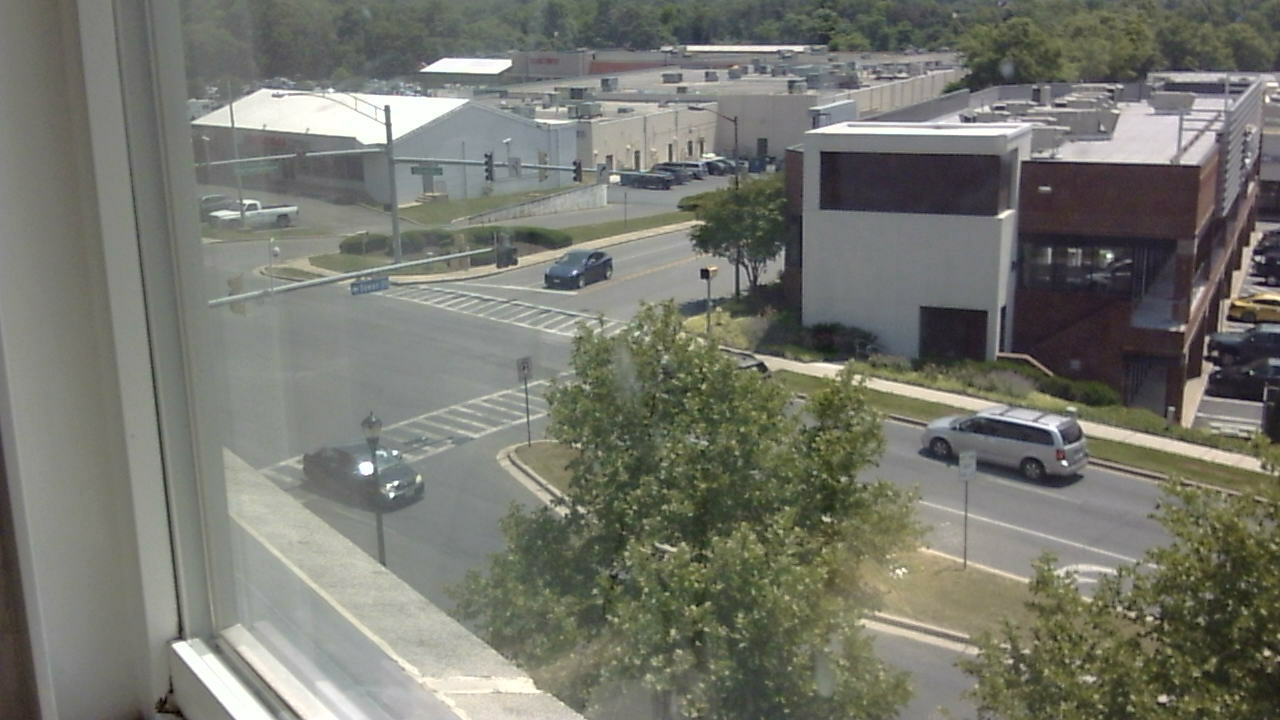Car: (303, 421, 457, 523), (545, 238, 630, 322)
Truck: (208, 188, 324, 244)
Van: (916, 392, 1105, 503)
